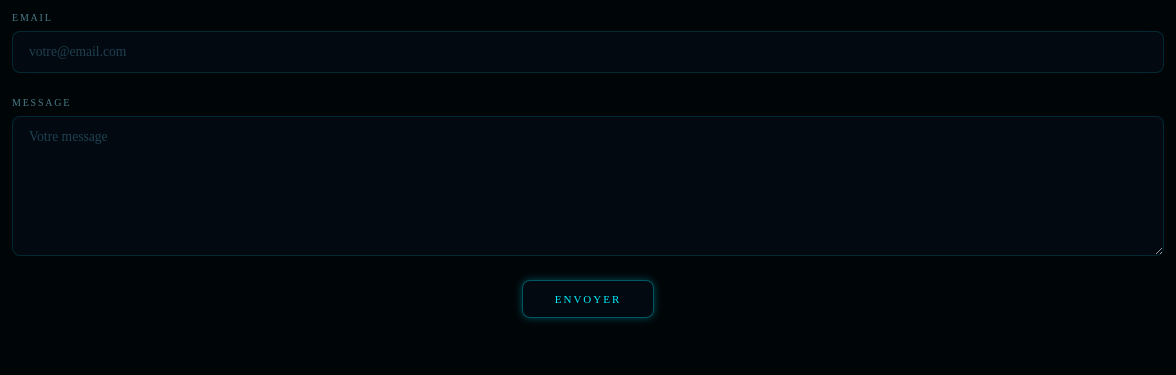
Test case: ContactForm › displays success message and clears fields on successful submission
In the field labelled "Email": {"x": 588, "y": 52} x1=12 y1=31 x2=1164 y2=73, type "test@example.com"
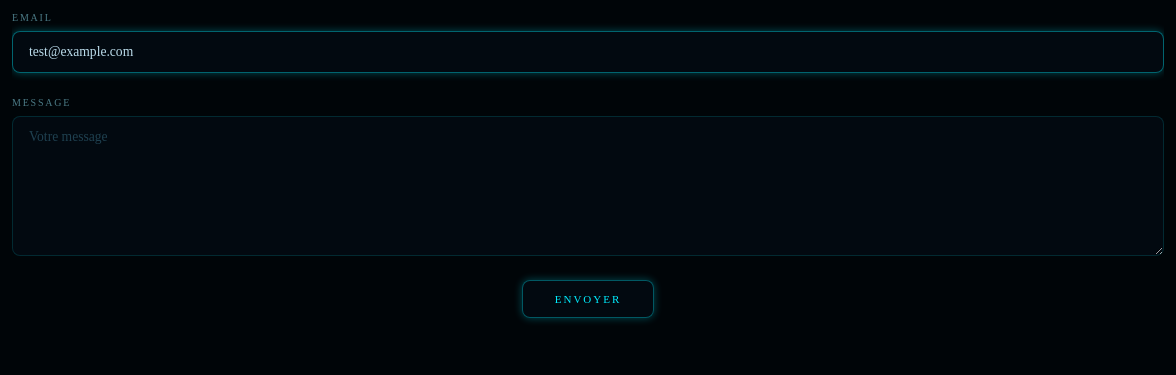
In the text box labelled "Message": {"x": 588, "y": 186} x1=12 y1=116 x2=1164 y2=256, type "Un message valide de test."
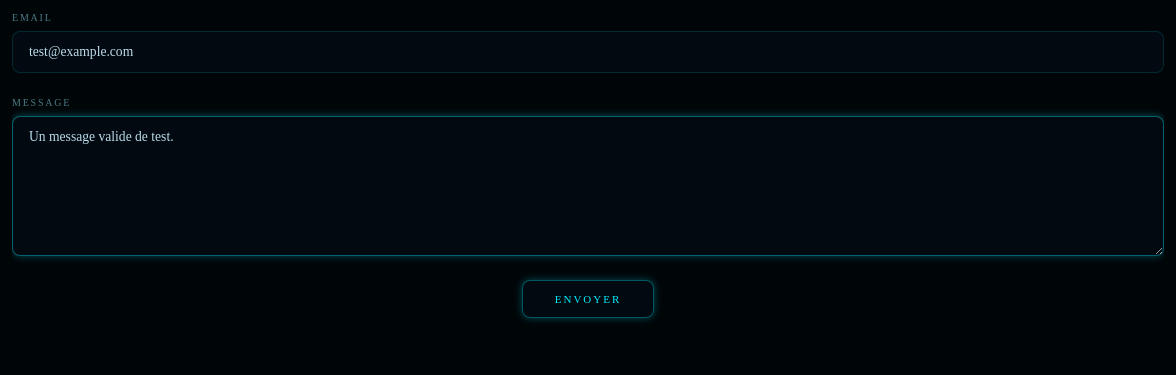
Click the button "Envoyer": {"x": 588, "y": 299} x1=522 y1=280 x2=654 y2=318
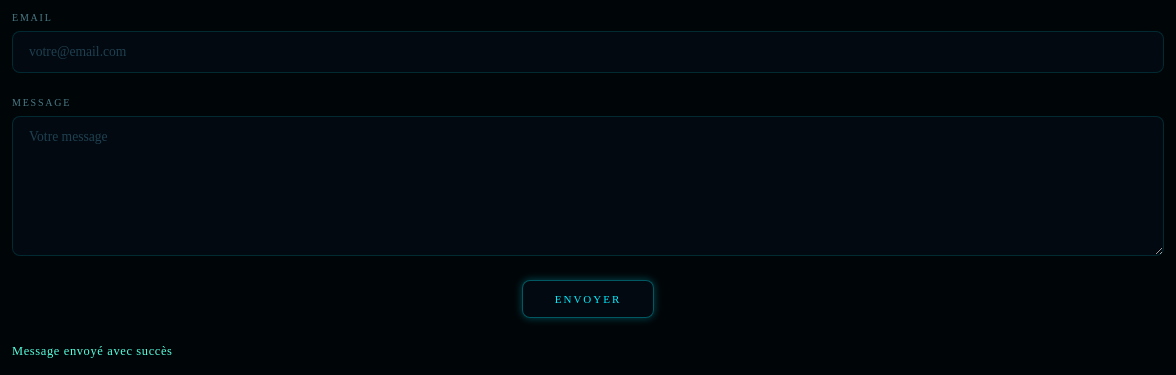
Now the text "Message envoyé avec succès" is shown, box x1=12 y1=344 x2=173 y2=358
Now the field labelled "Email" is empty, box x1=12 y1=31 x2=1164 y2=73
Now the text box labelled "Message" is empty, box x1=12 y1=116 x2=1164 y2=256
